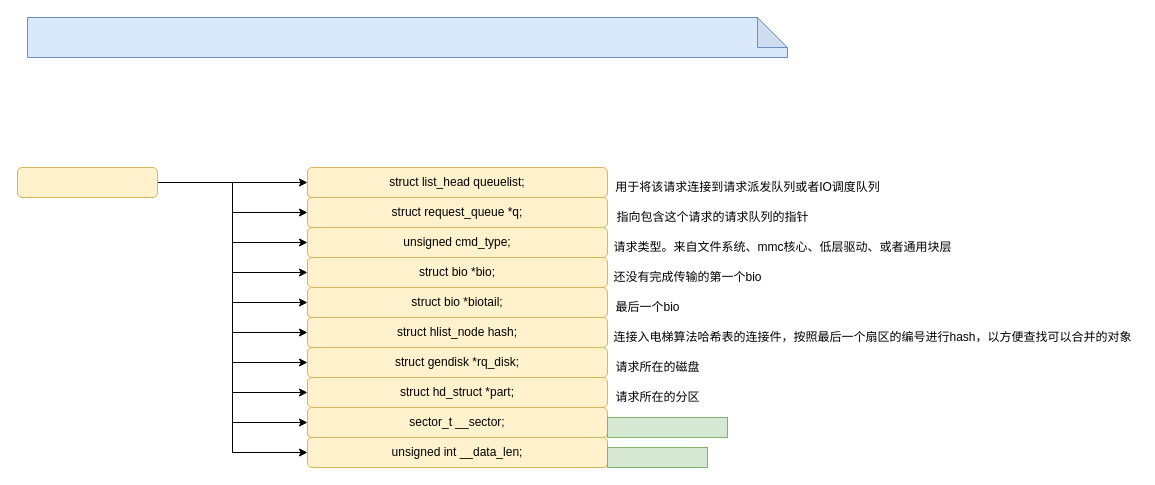
The diagram is 1155 pixels wide and 485 high, and some of its shapes have lost their labels. Each missing label, with the box of its shape:
struct request: (16, 166, 158, 198)
每个块设备请求代表一段连续的扇区访问，__sector代表请求的起始扇区，__data_len记录以字节为单位请求的长度: (26, 16, 788, 58)
请求的字节长度: (606, 446, 708, 468)
请求的起始扇区编号: (606, 416, 728, 438)
